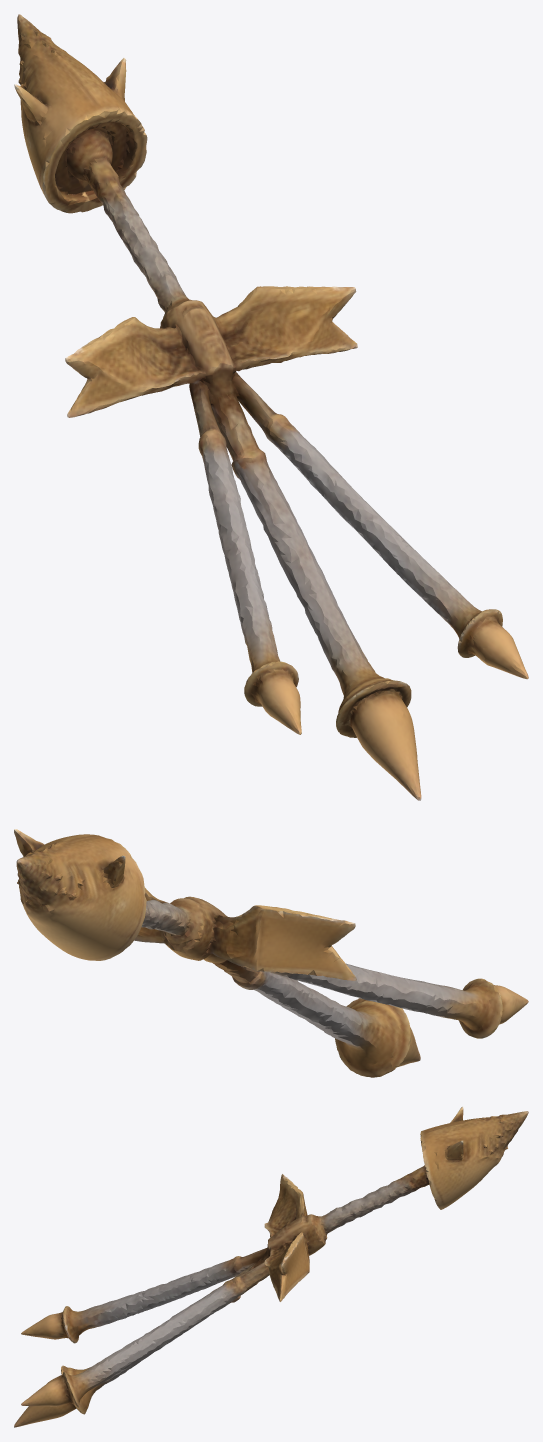
3 views of the same model, one above another, from view 1: azimuth 30°, elevation 25°; view 2: azimuth 150°, elevation 25°; view 3: azimuth 270°, elevation 25° (orthographic). The views are drawn at different scales.
Visible parts, largest first — view 1: 055; view 2: 055; view 3: 055.
Boxes of the visible parts, x1=… form: 055: x1=14, y1=14, x2=528, y2=800; 055: x1=14, y1=829, x2=528, y2=1077; 055: x1=14, y1=1106, x2=528, y2=1427.
Size of the model in its own units: 0.7931 by 1.29 by 1.9.
Materials: 1 (1 with a texture image).
